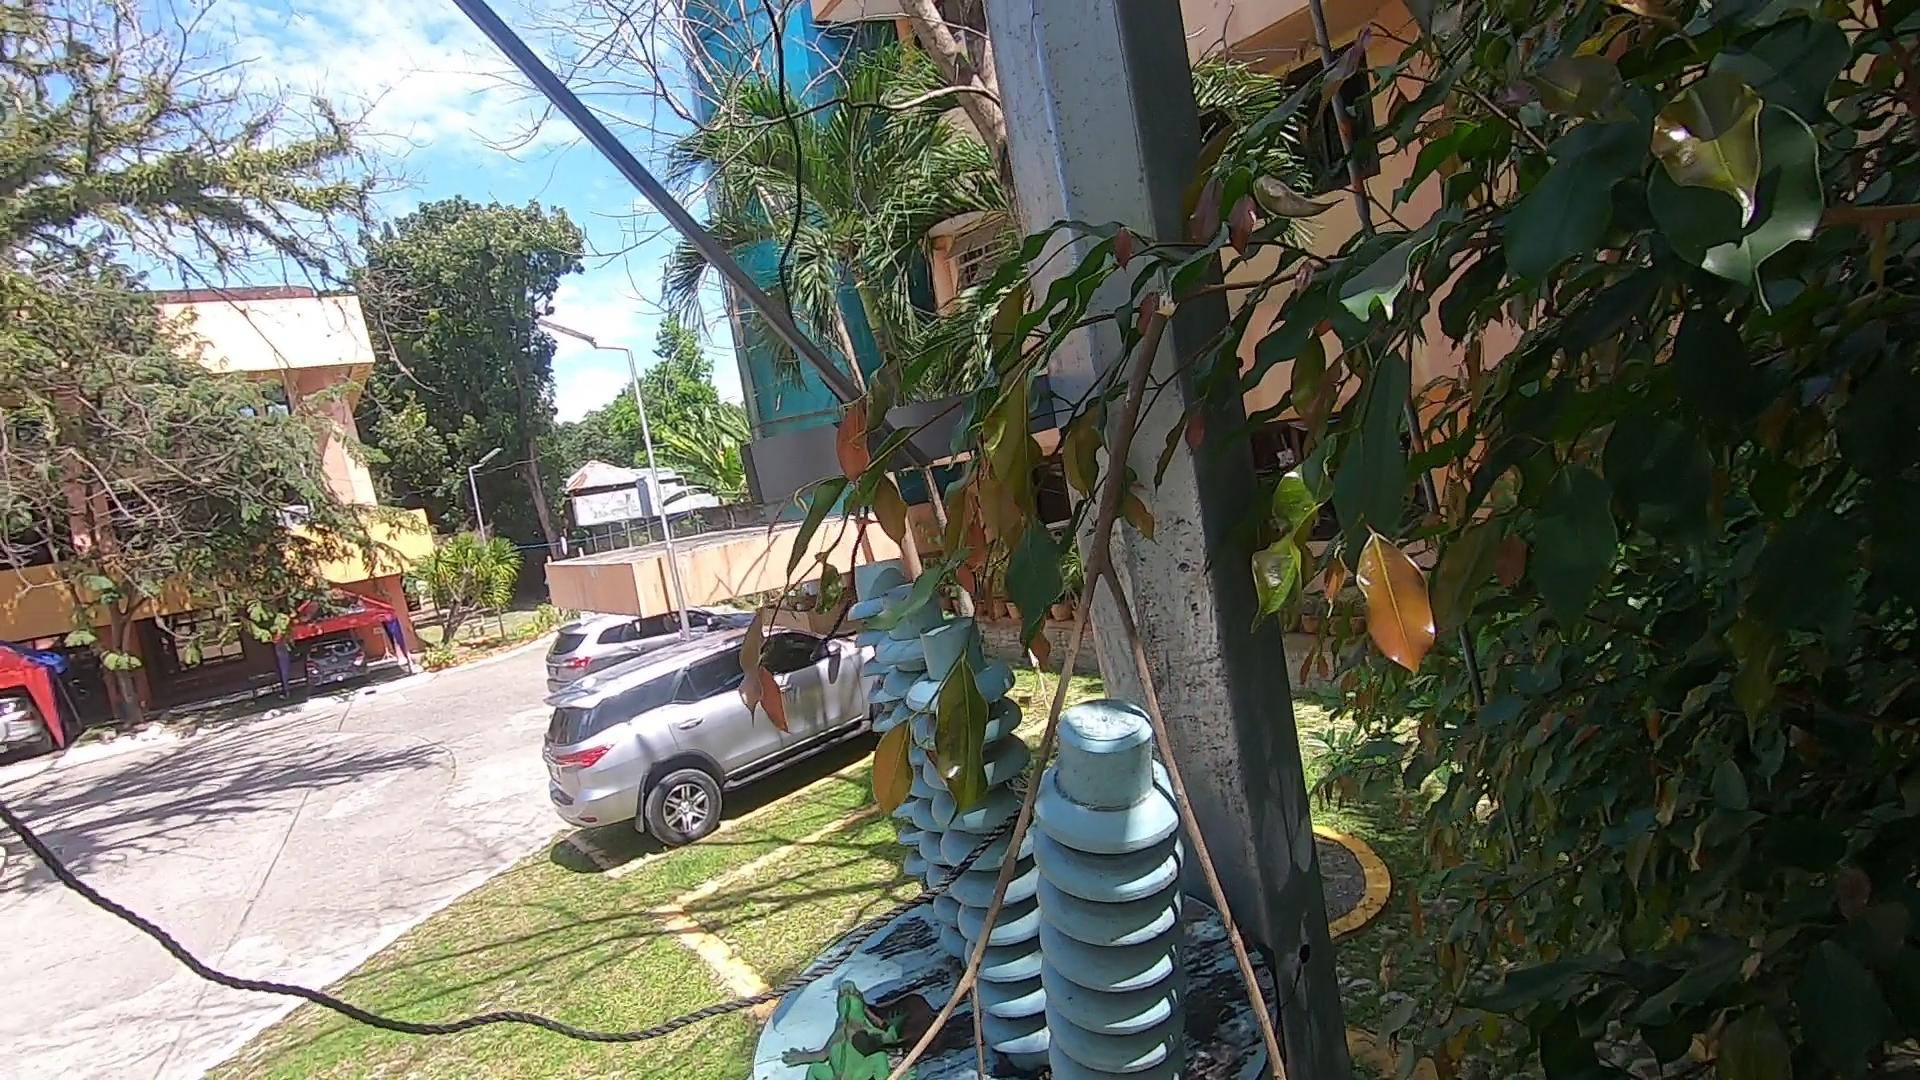leaf: (862, 971, 978, 1054)
tree branch: (840, 273, 1331, 1080)
